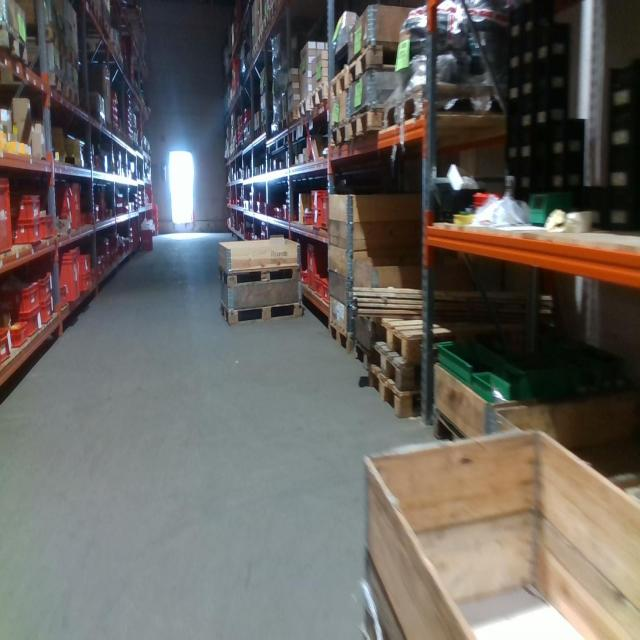pallet: (382, 76, 502, 136), (346, 37, 426, 77), (370, 364, 423, 416), (218, 298, 303, 328), (216, 262, 303, 286), (376, 341, 418, 389), (381, 316, 423, 355), (350, 103, 382, 145), (22, 29, 67, 57), (2, 25, 28, 73), (434, 412, 470, 445), (22, 74, 67, 99), (328, 119, 352, 159), (326, 320, 352, 353), (322, 63, 348, 94), (305, 79, 329, 107), (62, 48, 82, 68), (351, 345, 368, 368), (67, 90, 82, 111), (287, 107, 299, 130), (297, 97, 307, 123)
small_load_carrier: (606, 187, 636, 235), (58, 247, 80, 305), (304, 241, 328, 291), (11, 189, 44, 225), (610, 73, 635, 119), (12, 280, 38, 320), (608, 119, 635, 157), (14, 220, 49, 248), (608, 157, 636, 187), (10, 316, 30, 353), (0, 182, 10, 254), (71, 182, 82, 237), (37, 271, 54, 304), (0, 325, 12, 369), (23, 311, 38, 339), (36, 297, 50, 326), (321, 192, 330, 235), (53, 182, 71, 203), (78, 273, 93, 297), (43, 215, 55, 244), (78, 255, 91, 279), (309, 186, 321, 211), (140, 229, 154, 250), (56, 288, 68, 311), (315, 274, 326, 299), (53, 200, 71, 215), (302, 211, 313, 230), (312, 211, 322, 231), (321, 280, 330, 302)
